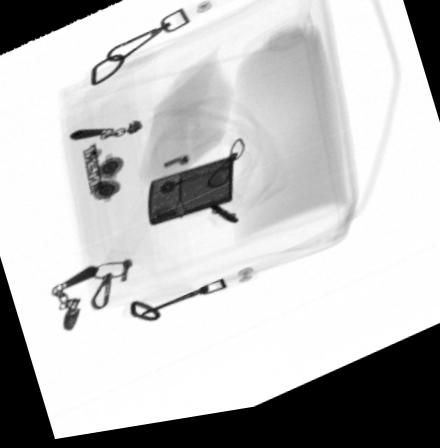Lighter: (147, 163, 235, 231)
